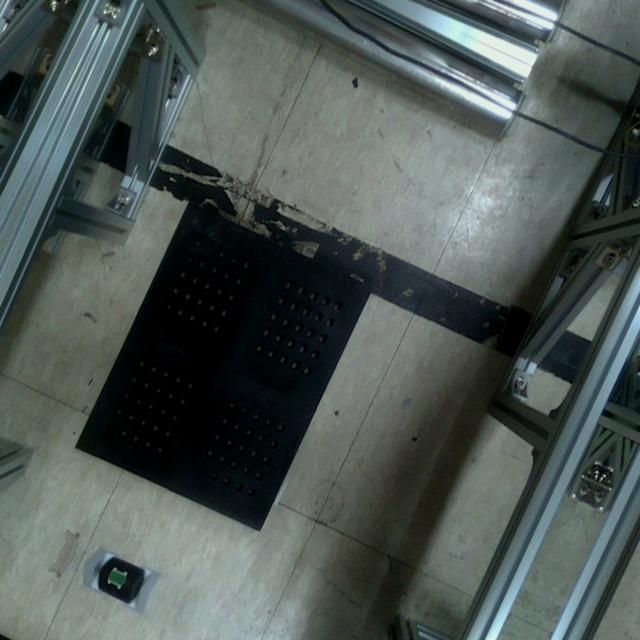pallet: (68, 193, 379, 539)
